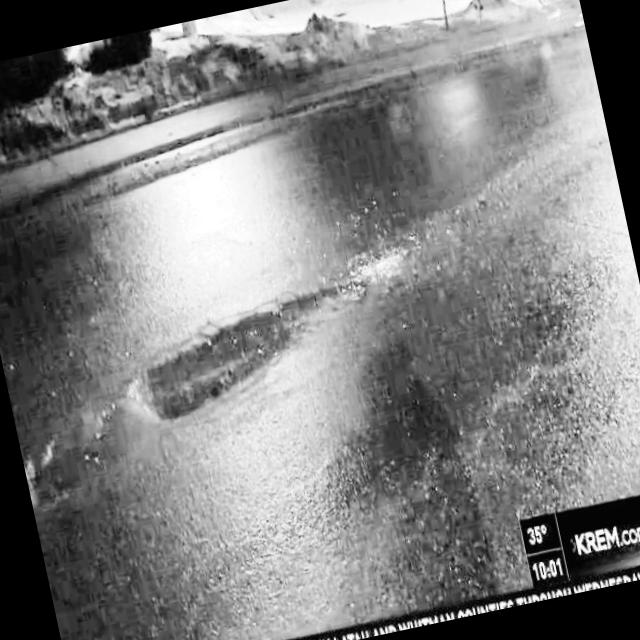Pothole: (119, 289, 330, 442), (13, 403, 104, 530)
